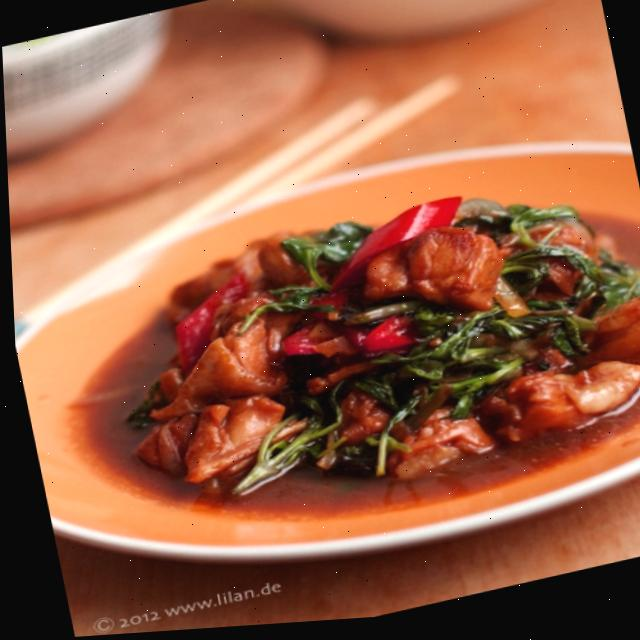鸡肉料理 含炸鸡: (13, 118, 640, 622)
